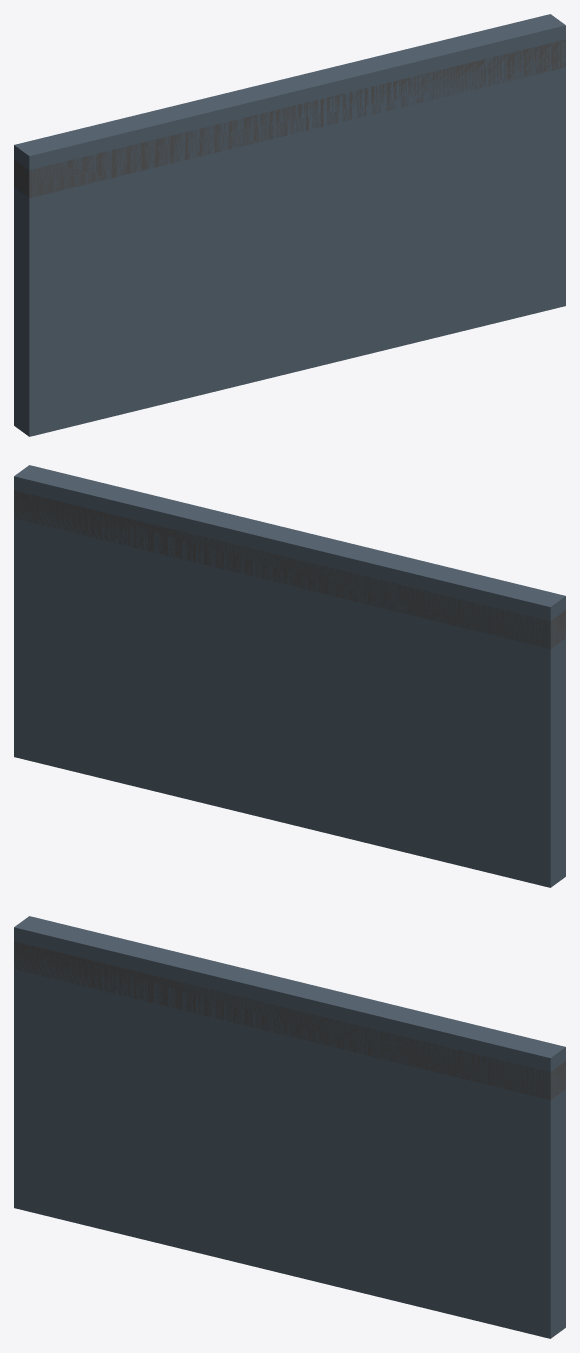
The model's file is boat_windshield_railings.glb.
3 renders of one model, top to bottom at view 1: azimuth 30°, elevation 25°; view 2: azimuth 150°, elevation 25°; view 3: azimuth 330°, elevation 25°, orthographic.
Visible parts, largest first — view 1: shield, rail; view 2: shield, rail; view 3: shield, rail.
Boxes of the visible parts, bbox=[...] form: shield: bbox=[14, 14, 565, 436]; rail: bbox=[14, 39, 565, 198]; shield: bbox=[14, 465, 565, 887]; rail: bbox=[14, 490, 565, 649]; shield: bbox=[14, 916, 565, 1338]; rail: bbox=[14, 941, 565, 1100].
Size of the model in its own units: 2 by 1 by 0.0996.
